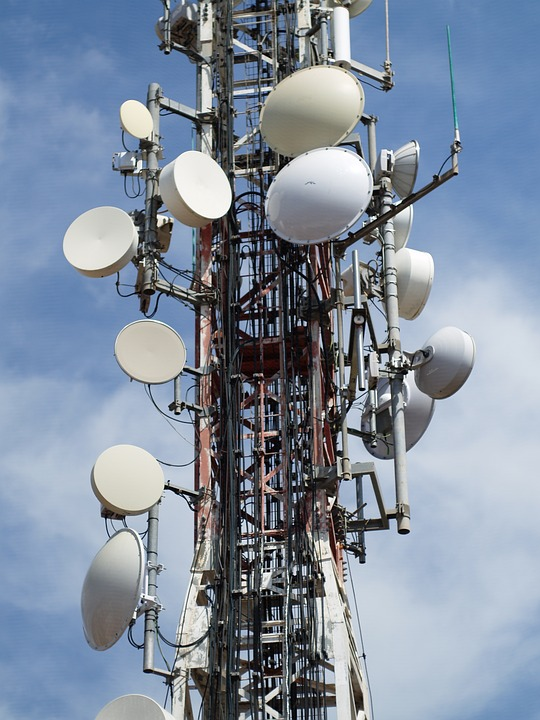b: (159, 151, 235, 226), (61, 206, 139, 277), (89, 444, 165, 514), (115, 320, 189, 387), (414, 331, 479, 397), (394, 246, 434, 318), (120, 102, 157, 138)
